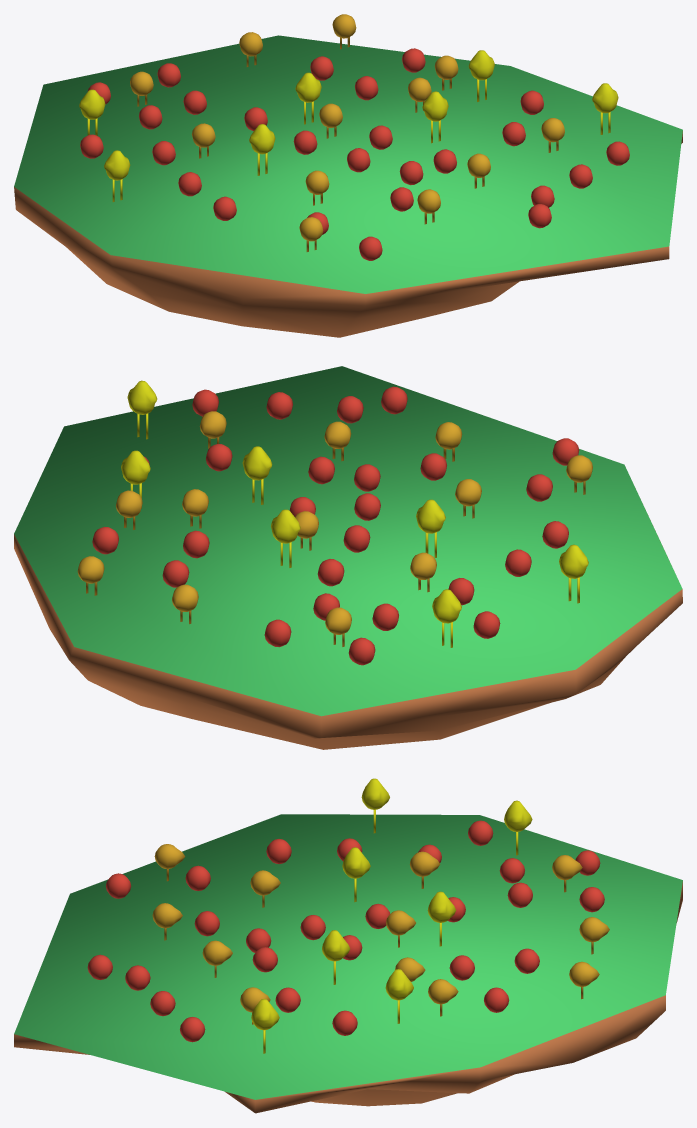
The picture shows the model from 3 angles, top to bottom: view 1: azimuth 30°, elevation 25°; view 2: azimuth 150°, elevation 25°; view 3: azimuth 270°, elevation 25°; orthographic projection. The views are drawn at different scales.
Visible parts, largest first — view 1: Cube, Sphere.017, Sphere.019, Sphere.020, Sphere.018, Sphere.021, Sphere.012, Sphere.022, Sphere.016, Sphere.015, Sphere.014, Sphere.011 (+8 smaller); view 2: Cube, Sphere.020, Sphere.019, Sphere.018, Sphere.017, Sphere.022, Sphere.021, Sphere.012, Sphere.023, Sphere.016, Sphere.015, Sphere.013 (+28 smaller); view 3: Cube, Sphere.021, Sphere.019, Sphere.022, Sphere.020, Sphere.012, Sphere.017, Sphere.018, Sphere.023, Sphere.016, Sphere.010, Sphere.001 (+12 smaller).
Boxes of the visible parts, bbox=[...] form: Cube: bbox=[14, 35, 682, 337]; Sphere.017: bbox=[592, 83, 618, 134]; Sphere.019: bbox=[249, 124, 275, 175]; Sphere.020: bbox=[104, 150, 130, 201]; Sphere.018: bbox=[422, 91, 448, 143]; Sphere.021: bbox=[295, 72, 321, 124]; Sphere.012: bbox=[468, 50, 494, 101]; Sphere.022: bbox=[79, 89, 105, 135]; Sphere.016: bbox=[417, 189, 440, 224]; Sphere.015: bbox=[467, 153, 490, 188]; Sphere.014: bbox=[319, 103, 342, 138]; Sphere.011: bbox=[239, 32, 262, 66]; Cube: bbox=[14, 366, 682, 749]; Sphere.020: bbox=[559, 544, 588, 603]; Sphere.019: bbox=[416, 499, 445, 557]; Sphere.018: bbox=[242, 446, 272, 504]; Sphere.017: bbox=[127, 380, 157, 439]; Sphere.022: bbox=[432, 589, 461, 647]; Sphere.021: bbox=[271, 509, 300, 567]; Sphere.012: bbox=[121, 450, 150, 508]; Sphere.023: bbox=[77, 556, 104, 595]; Sphere.016: bbox=[435, 422, 462, 461]; Sphere.015: bbox=[324, 421, 351, 461]; Sphere.013: bbox=[455, 479, 481, 518]; Cube: bbox=[14, 814, 682, 1113]; Sphere.021: bbox=[427, 891, 456, 946]; Sphere.019: bbox=[342, 847, 370, 902]; Sphere.022: bbox=[504, 800, 532, 855]; Sphere.020: bbox=[361, 778, 389, 833]; Sphere.012: bbox=[385, 969, 413, 1023]; Sphere.017: bbox=[251, 999, 279, 1053]; Sphere.018: bbox=[322, 930, 350, 984]; Sphere.023: bbox=[569, 961, 599, 999]; Sphere.016: bbox=[152, 903, 182, 940]; Sphere.010: bbox=[552, 855, 582, 892]; Sphere.001: bbox=[409, 851, 440, 888].
Bounding box in the file's own units: 442 × 135 × 440.
